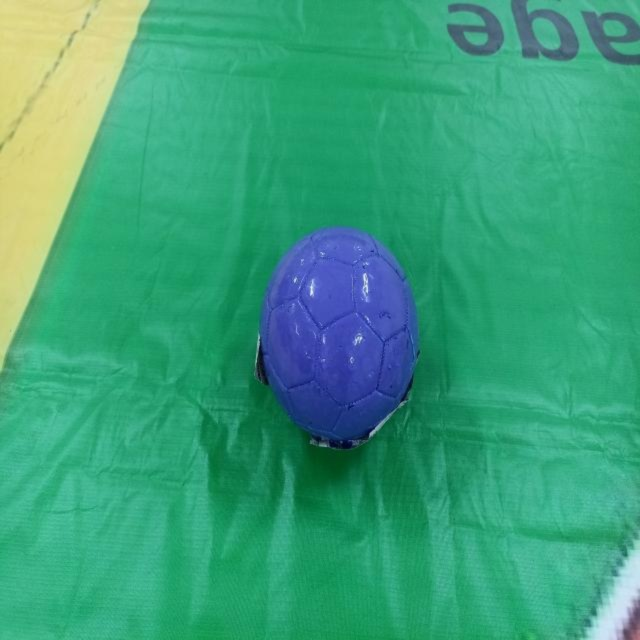purple_ball: (258, 230, 416, 442)
